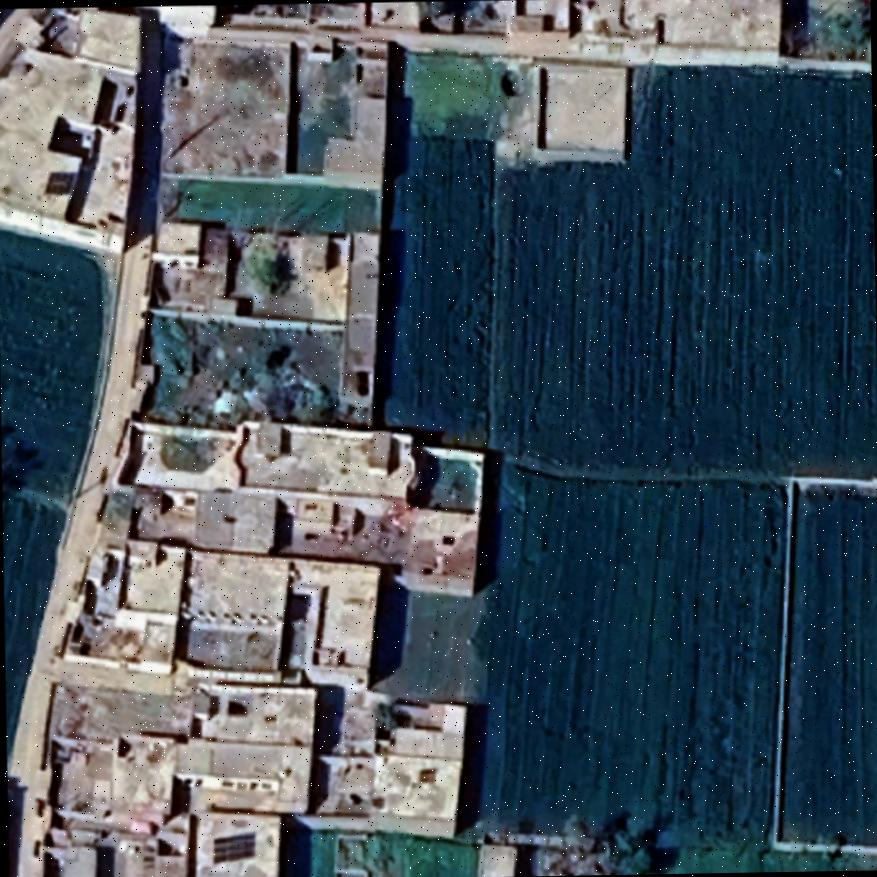Solarpanel: (208, 828, 260, 866), (44, 167, 77, 196)
